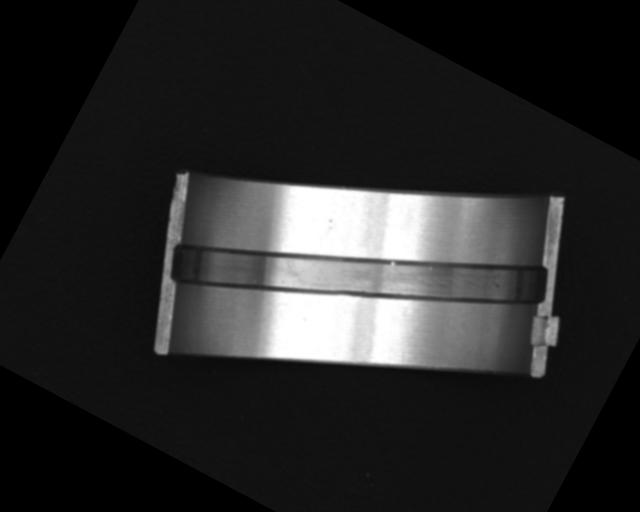gap: (159, 111, 556, 440)
